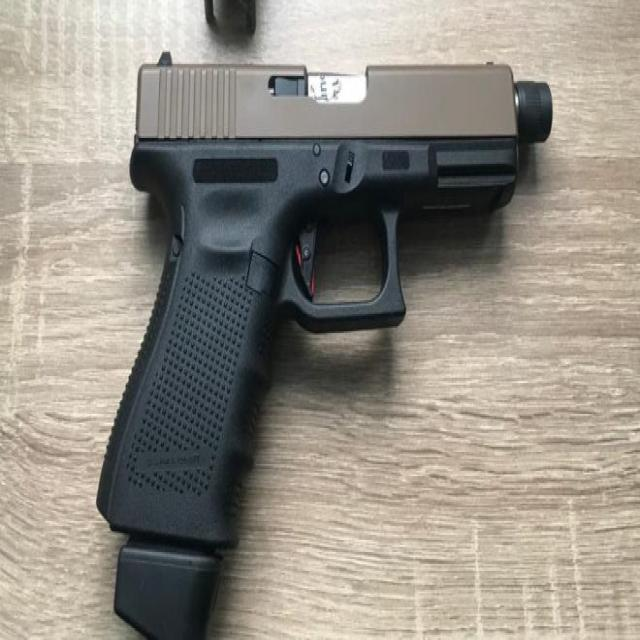handgun: (86, 41, 562, 640)
